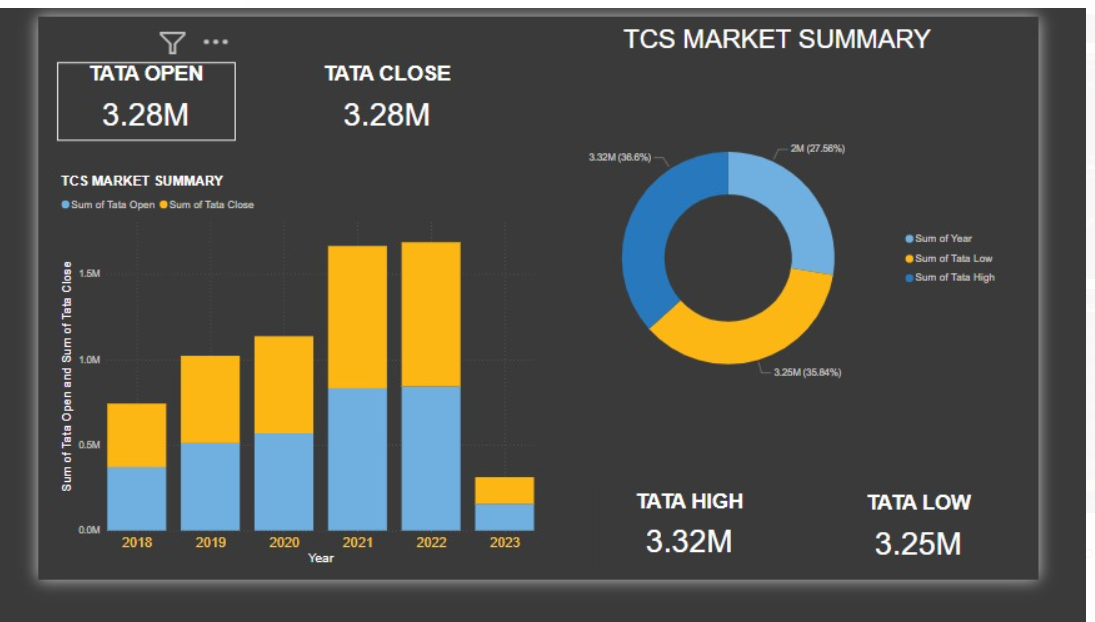

Layout of this report page (visuals, bound fields, positions):
{"tool":"powerbi","page":{"name":"TCS","canvas":[1280,720],"ordinal":0},"visuals":[{"type":"card","title":"TATA OPEN","fields":{"Values":["Sum(TCS NS.Tata Open)"]},"box":[24.3,58.6,227.1,101.4],"z":0},{"type":"card","title":"TATA CLOSE","fields":{"Values":["Sum(TCS NS.Tata Close)"]},"box":[332.9,58.6,228.6,101.4],"z":1000},{"type":"card","title":"TATA HIGH","fields":{"Values":["Sum(TCS NS.Tata High)"]},"box":[717.1,604.3,230,101.4],"z":2000},{"type":"card","title":"TATA LOW","fields":{"Values":["Sum(TCS NS.Tata Low)"]},"box":[1011.4,605.7,228.6,101.4],"z":3000},{"type":"columnChart","title":"TCS MARKET SUMMARY","fields":{"Category":["TCS NS.Year"],"Y":["Sum(TCS NS.Tata Open)","Sum(TCS NS.Tata Close)"]},"box":[24.3,200,615.7,505.7],"z":4000},{"type":"donutChart","title":"TCS MARKET SUMMARY","fields":{"Y":["Sum(TCS NS.Year)","Sum(TCS NS.Tata Low)","Sum(TCS NS.Tata High)"]},"box":[652.9,10,587.1,560],"z":5000}]}

Visuals, with their boxes in screenshot pixels (x1, y1, x2, y2), scaled from the page's 1280x720 canvas onto the 1095x622 screenshot:
"TATA OPEN" card: [21, 51, 215, 138]
"TATA CLOSE" card: [285, 51, 480, 138]
"TATA HIGH" card: [613, 522, 810, 610]
"TATA LOW" card: [865, 523, 1061, 611]
"TCS MARKET SUMMARY" columnChart: [21, 173, 548, 610]
"TCS MARKET SUMMARY" donutChart: [559, 9, 1061, 492]
